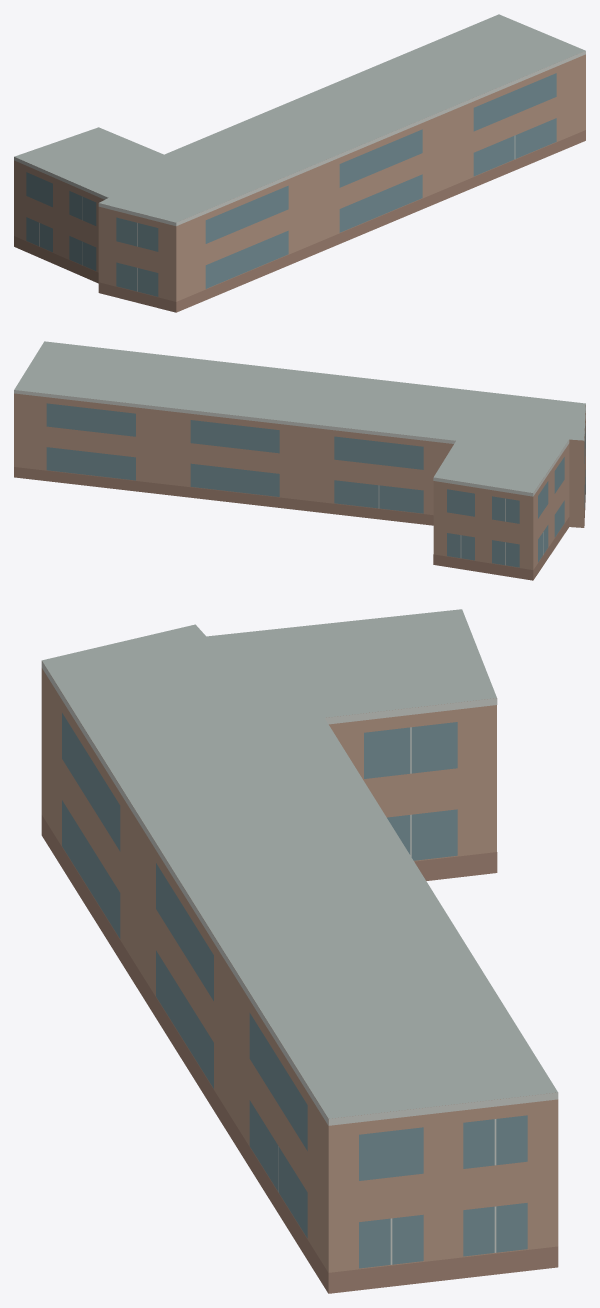
Rendered from survey-upis-32788710.glb.
3 renders of one model, top to bottom at view 1: azimuth 30°, elevation 25°; view 2: azimuth 150°, elevation 25°; view 3: azimuth 270°, elevation 25°, orthographic. The views are drawn at different scales.
Parts seen in each view (by area): view 1: survey-upis-32788710.tmp; view 2: survey-upis-32788710.tmp; view 3: survey-upis-32788710.tmp.
Part boxes in pixels (x1=…): survey-upis-32788710.tmp: x1=14, y1=14, x2=585, y2=312; survey-upis-32788710.tmp: x1=14, y1=341, x2=585, y2=580; survey-upis-32788710.tmp: x1=41, y1=609, x2=558, y2=1293.
Size of the model in its own units: 38.14 by 6.1 by 16.34.
